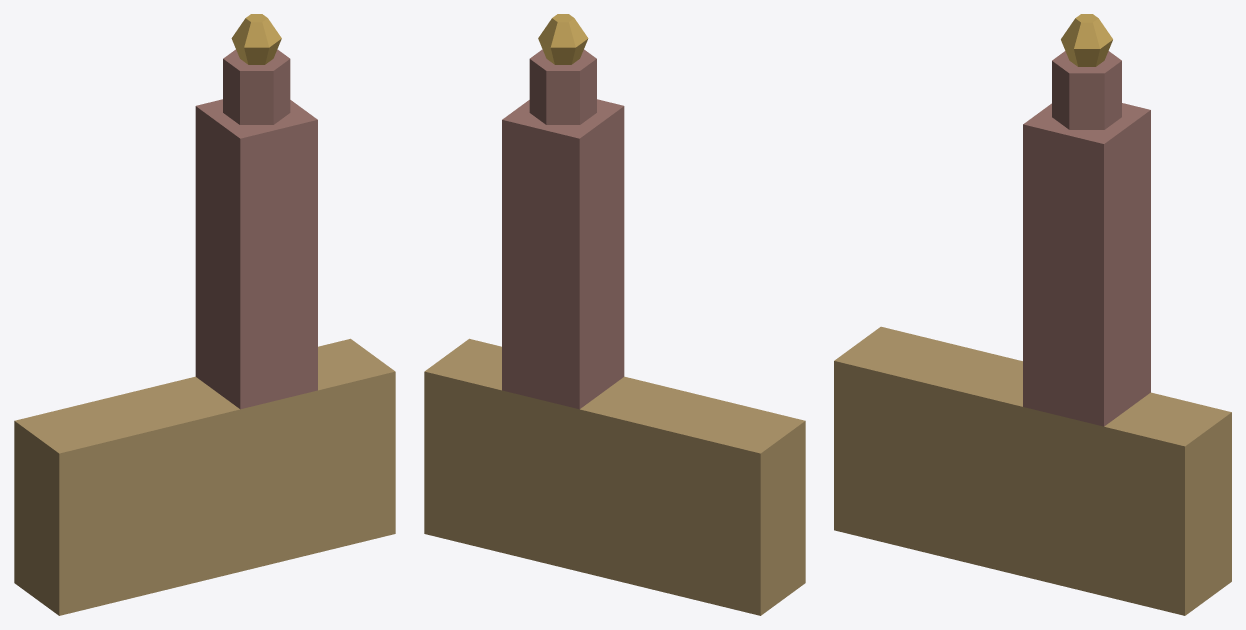
The model's file is monastery.glb.
The picture shows the model from 3 angles, left to right: view 1: azimuth 30°, elevation 25°; view 2: azimuth 150°, elevation 25°; view 3: azimuth 330°, elevation 25°; orthographic projection. The views are drawn at different scales.
Parts seen in each view (by area): view 1: Plane, Circle; view 2: Plane, Circle; view 3: Plane, Circle.
Boxes of the visible parts, bbox=[...] form: Plane: bbox=[14, 99, 395, 615]; Circle: bbox=[223, 14, 290, 124]; Plane: bbox=[424, 99, 805, 615]; Circle: bbox=[529, 14, 596, 124]; Plane: bbox=[834, 103, 1231, 615]; Circle: bbox=[1052, 14, 1121, 129].
Bounding box in the file's own units: 26 × 39 × 6.
